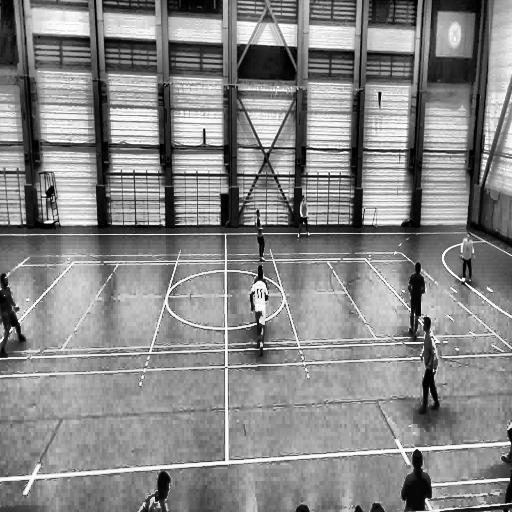ball: (462, 276, 466, 284)
player: (0, 268, 29, 359), (420, 316, 440, 413), (249, 265, 270, 357), (407, 259, 427, 340), (138, 471, 171, 512), (502, 395, 512, 512), (461, 234, 475, 286), (297, 194, 310, 238), (255, 209, 265, 260), (253, 264, 266, 288)
